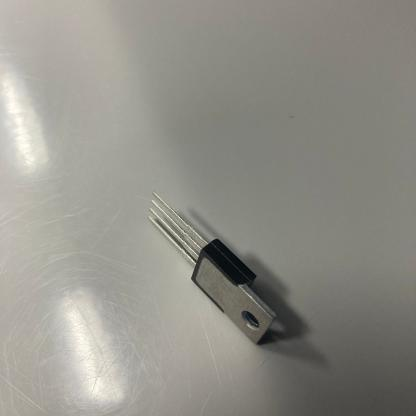SP0000012: (98, 173, 342, 387)
